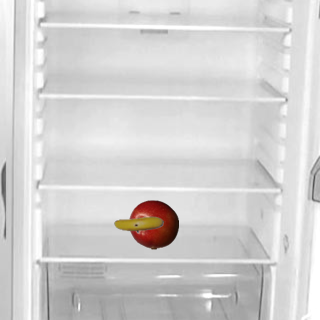Apple Braeburn: (128, 199, 178, 249)
Banana: (113, 199, 163, 249)
